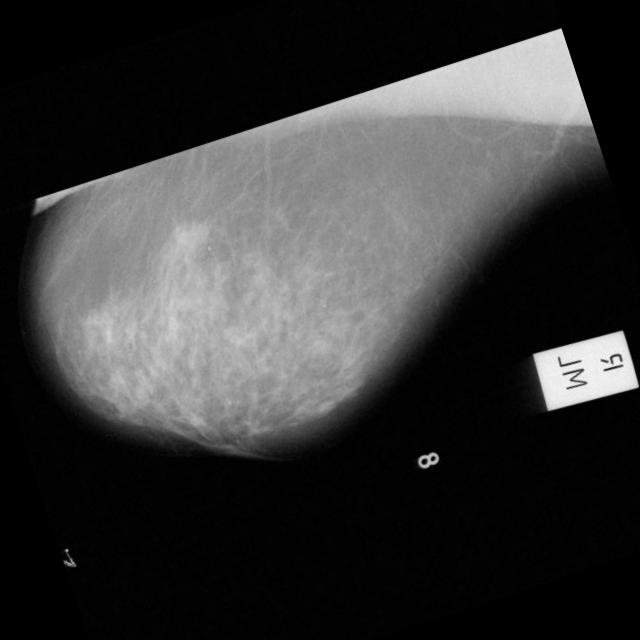MISC: (170, 213, 213, 256)
